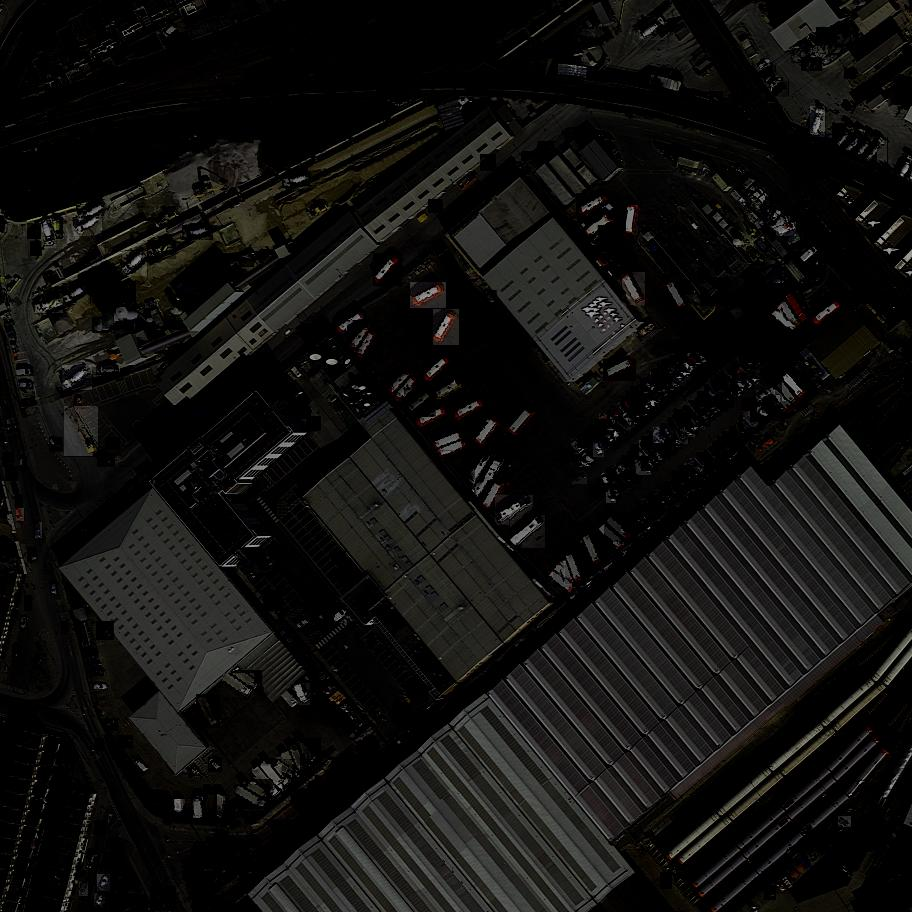large-vehicle: (64, 406, 100, 457), (476, 454, 508, 501), (461, 451, 507, 481), (511, 515, 548, 549), (496, 496, 536, 526), (347, 320, 380, 353), (258, 760, 294, 790), (508, 405, 540, 438), (252, 766, 283, 800), (811, 299, 845, 330), (334, 309, 370, 338), (385, 371, 422, 399), (422, 354, 455, 385), (404, 388, 437, 419), (576, 194, 613, 221), (373, 254, 404, 286), (432, 379, 468, 406), (434, 310, 461, 346), (410, 283, 447, 309), (394, 375, 424, 407), (356, 327, 383, 362), (454, 397, 490, 423), (700, 277, 730, 308), (604, 515, 636, 544), (782, 371, 811, 403), (785, 291, 812, 325), (235, 784, 270, 810), (475, 415, 502, 448), (414, 406, 451, 430), (481, 479, 507, 513), (666, 280, 691, 315), (775, 380, 804, 410), (598, 522, 626, 553), (770, 308, 802, 335), (294, 737, 323, 766), (547, 568, 578, 595), (62, 365, 93, 392), (586, 214, 618, 240), (623, 273, 647, 307), (197, 695, 221, 729), (598, 226, 626, 255), (553, 561, 583, 588), (843, 127, 870, 157), (770, 385, 795, 417), (582, 534, 605, 568), (223, 674, 254, 699), (853, 132, 879, 161), (832, 123, 858, 152), (777, 302, 807, 327), (639, 15, 669, 40), (438, 438, 472, 460), (603, 359, 637, 381), (861, 138, 889, 164), (78, 200, 108, 224), (233, 670, 263, 694), (63, 283, 92, 307), (123, 251, 149, 277), (151, 886, 177, 912), (74, 213, 103, 236), (432, 432, 466, 451), (565, 553, 585, 585), (281, 750, 301, 782), (289, 744, 309, 775), (108, 282, 136, 304), (148, 240, 177, 260), (252, 779, 273, 806), (93, 271, 122, 289), (811, 106, 827, 137), (182, 406, 211, 423), (35, 298, 64, 315), (183, 225, 213, 241), (41, 218, 57, 248), (274, 764, 297, 783), (283, 174, 312, 189), (698, 473, 715, 497), (627, 205, 640, 236), (192, 794, 207, 820), (293, 683, 310, 705), (97, 621, 116, 640), (203, 794, 217, 819), (133, 756, 151, 775), (214, 795, 227, 821), (97, 453, 115, 468), (237, 255, 256, 269), (52, 217, 63, 240), (822, 830, 838, 845), (833, 819, 847, 836), (660, 873, 673, 890), (174, 799, 186, 817), (208, 757, 223, 771), (817, 838, 830, 854), (97, 366, 119, 375), (764, 886, 777, 901), (838, 816, 852, 828), (87, 852, 96, 869)
small-vehicle: (263, 591, 285, 612), (752, 191, 771, 213), (800, 246, 820, 265), (809, 259, 827, 279), (740, 176, 758, 196), (768, 265, 786, 284), (748, 187, 767, 205), (672, 470, 690, 489), (770, 216, 791, 232), (785, 233, 806, 248), (768, 209, 785, 227), (776, 223, 797, 237), (270, 544, 288, 560), (709, 92, 724, 111), (630, 510, 649, 525), (481, 154, 497, 171), (628, 407, 645, 423), (630, 386, 646, 403), (591, 233, 608, 249), (334, 608, 351, 624), (117, 735, 134, 751), (744, 412, 760, 429), (772, 82, 789, 98), (679, 466, 695, 483), (653, 428, 670, 444), (657, 362, 673, 379), (743, 185, 761, 200), (663, 482, 681, 497), (634, 402, 650, 418), (684, 463, 700, 479), (636, 460, 652, 476), (626, 514, 642, 530), (653, 491, 669, 507), (713, 398, 729, 414), (162, 23, 178, 39), (641, 378, 658, 393), (601, 430, 618, 445), (627, 469, 642, 486), (632, 444, 647, 461), (641, 457, 658, 472), (641, 436, 658, 451), (661, 422, 676, 439), (621, 474, 636, 491), (661, 359, 678, 374), (97, 874, 111, 892), (743, 353, 757, 371), (642, 499, 656, 517), (307, 416, 322, 432), (428, 199, 443, 215), (623, 412, 638, 428), (607, 425, 622, 441), (572, 439, 588, 454), (49, 437, 64, 453), (656, 385, 671, 401), (651, 369, 667, 384), (713, 440, 728, 456), (718, 437, 733, 453), (756, 390, 772, 405), (662, 379, 677, 395), (760, 199, 775, 215), (757, 58, 772, 74), (691, 459, 706, 475), (672, 371, 688, 386), (685, 420, 700, 436), (704, 385, 719, 401), (480, 187, 497, 201), (640, 397, 654, 414), (599, 204, 616, 218), (739, 416, 753, 433), (729, 426, 743, 443), (760, 65, 777, 79), (696, 453, 710, 470), (741, 374, 755, 391), (598, 435, 611, 453), (245, 564, 258, 582), (182, 284, 200, 297), (614, 422, 629, 437), (614, 400, 629, 415), (561, 448, 576, 463), (582, 430, 597, 445), (743, 398, 758, 413), (784, 227, 799, 242), (615, 480, 630, 495), (668, 376, 683, 391), (694, 351, 709, 366), (621, 519, 636, 534), (691, 416, 706, 431), (706, 402, 721, 417), (719, 393, 734, 408), (724, 387, 739, 402), (297, 407, 313, 421), (645, 393, 659, 409), (589, 484, 605, 498), (27, 224, 41, 240), (798, 243, 812, 259), (722, 431, 738, 445), (750, 408, 766, 422), (689, 356, 703, 372), (730, 383, 744, 399), (676, 409, 692, 423), (484, 290, 497, 307), (538, 141, 555, 154), (678, 364, 691, 381), (676, 428, 689, 445), (737, 357, 750, 374), (648, 495, 661, 512), (843, 857, 855, 875), (331, 551, 346, 565), (581, 451, 596, 465), (587, 425, 602, 439), (368, 638, 382, 653), (708, 445, 722, 460), (757, 405, 772, 419), (522, 151, 537, 165), (697, 391, 712, 405), (719, 371, 734, 385), (600, 415, 613, 431), (105, 438, 121, 451), (767, 281, 783, 294), (639, 440, 652, 456), (648, 451, 661, 467), (653, 447, 666, 463), (650, 431, 663, 447), (666, 417, 679, 433), (747, 369, 760, 385), (660, 488, 673, 504), (715, 374, 728, 390), (593, 441, 605, 458), (647, 372, 659, 389), (618, 459, 630, 476), (628, 448, 640, 465), (659, 442, 671, 459), (601, 472, 613, 489), (611, 484, 623, 501), (673, 412, 685, 429), (698, 410, 710, 427), (709, 379, 721, 396), (103, 851, 114, 869), (594, 419, 608, 433), (578, 434, 592, 448), (622, 455, 636, 469), (686, 341, 700, 355), (688, 400, 702, 414), (582, 14, 595, 29), (617, 417, 632, 430), (621, 396, 634, 411), (652, 390, 665, 405), (6, 467, 19, 482), (298, 620, 313, 633), (105, 719, 120, 732), (763, 399, 776, 414), (684, 361, 697, 376), (669, 355, 684, 368), (675, 349, 688, 364), (680, 347, 695, 360), (596, 479, 609, 494), (702, 407, 717, 420), (769, 78, 785, 90), (639, 504, 650, 521), (2, 453, 15, 467), (776, 274, 790, 287), (764, 206, 777, 220), (612, 465, 626, 478), (681, 426, 695, 439), (683, 405, 697, 418), (626, 391, 638, 406), (94, 893, 106, 908), (94, 821, 106, 836), (607, 467, 619, 482), (695, 397, 707, 412), (607, 410, 618, 426), (611, 405, 622, 421), (577, 455, 588, 471), (31, 241, 42, 257), (312, 683, 323, 699), (704, 450, 715, 466), (666, 439, 677, 455), (672, 478, 683, 494), (572, 475, 589, 485), (168, 406, 181, 419), (347, 622, 360, 635), (717, 462, 729, 476), (768, 395, 780, 409), (765, 73, 779, 85), (727, 367, 739, 381), (735, 380, 749, 392), (80, 882, 91, 897), (94, 738, 105, 753), (736, 422, 747, 437), (606, 490, 617, 505), (639, 382, 649, 398), (672, 434, 682, 450), (569, 444, 580, 458), (784, 277, 795, 291), (844, 69, 858, 80), (17, 367, 34, 376), (10, 481, 20, 496), (27, 548, 37, 563), (12, 643, 22, 658), (88, 660, 103, 670), (512, 163, 525, 174), (732, 362, 743, 374), (17, 509, 26, 522), (35, 522, 42, 538), (50, 581, 57, 596), (25, 596, 32, 610), (20, 457, 27, 471), (21, 616, 28, 629), (15, 495, 22, 507), (168, 38, 182, 44), (20, 383, 33, 389), (91, 669, 104, 675), (94, 685, 107, 691), (62, 622, 67, 634)
storage-tank: (102, 309, 129, 330), (114, 305, 141, 322), (91, 317, 115, 334), (816, 28, 838, 45), (832, 30, 852, 47), (823, 41, 843, 57), (801, 58, 823, 72), (809, 45, 828, 60), (791, 48, 808, 64), (846, 24, 854, 32), (734, 240, 743, 246), (143, 310, 151, 316), (854, 28, 860, 35), (146, 318, 154, 323), (856, 34, 863, 39), (150, 300, 155, 306), (145, 303, 149, 308)
